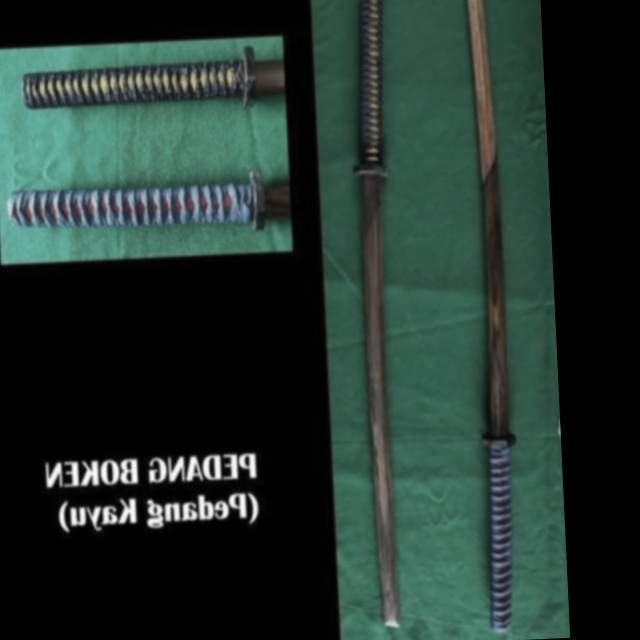Sharp-Object: (424, 0, 563, 636)
